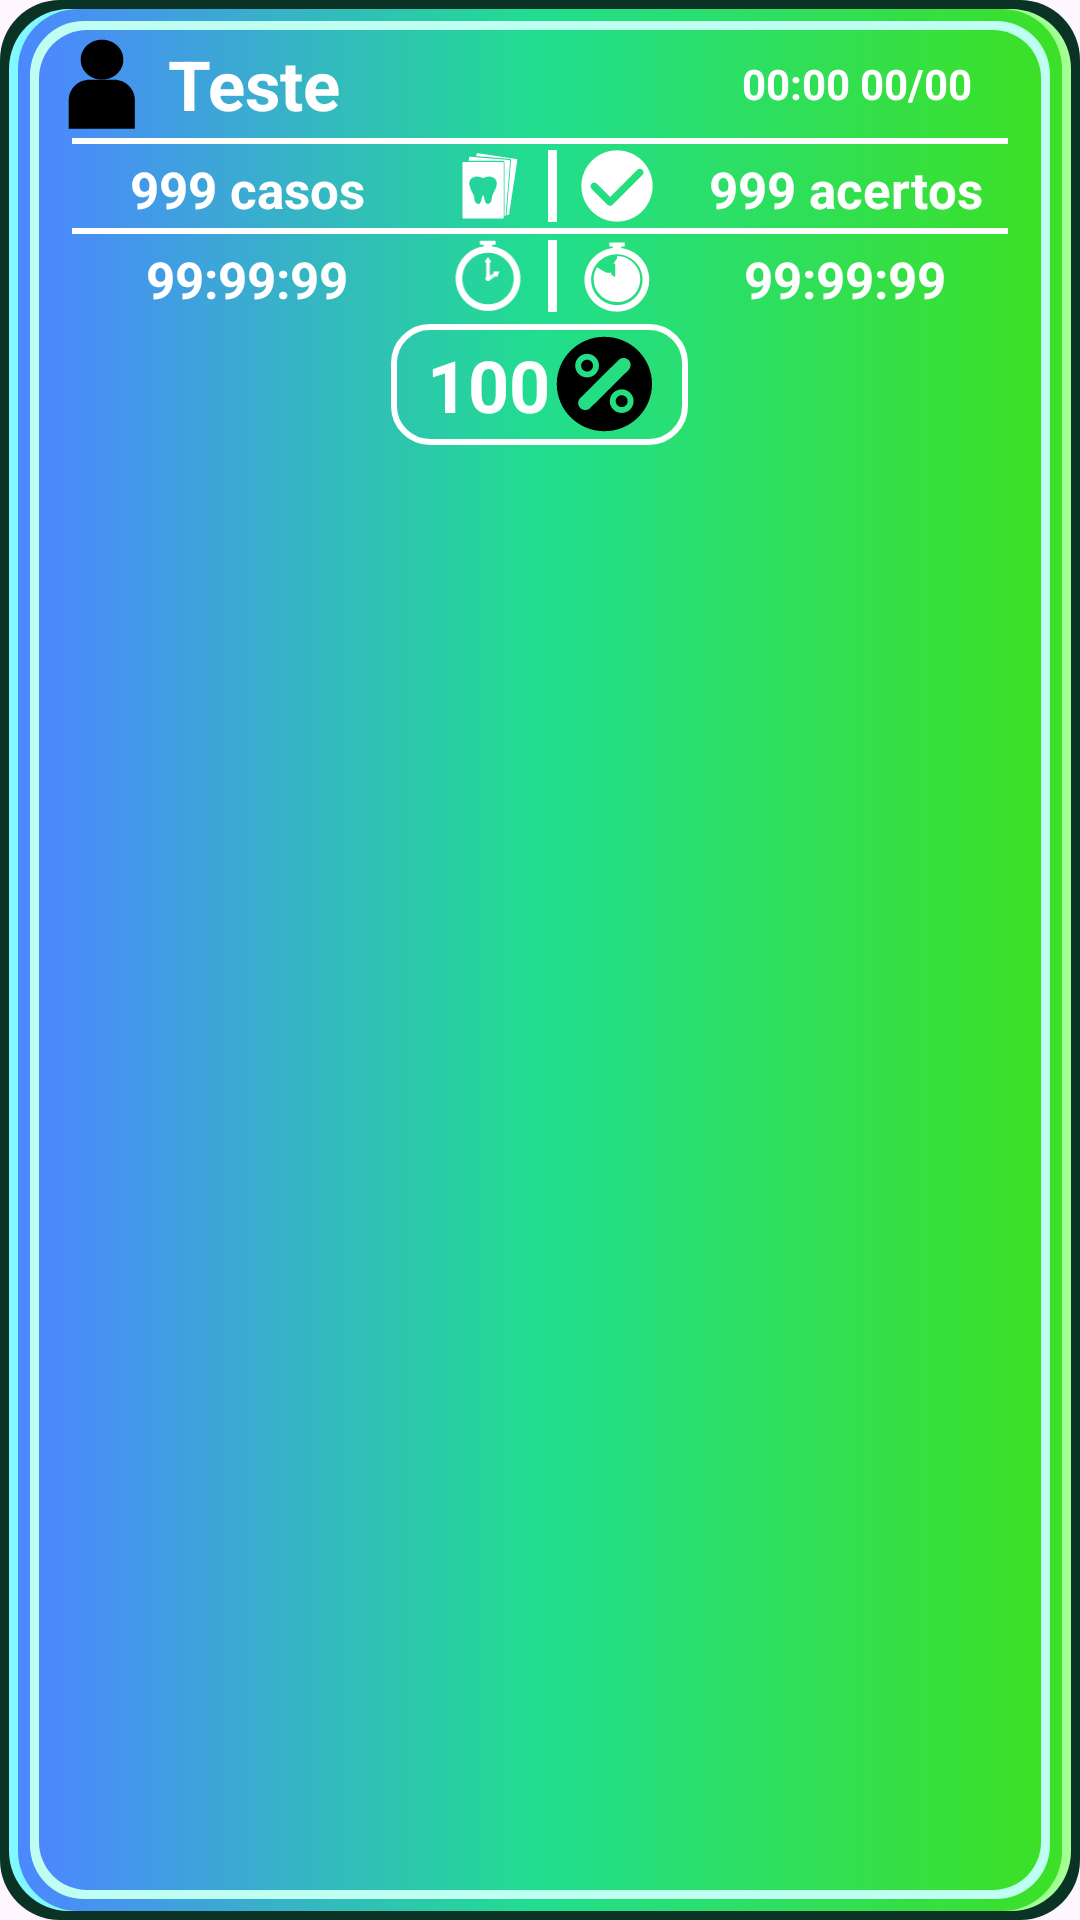

Icons on this 1080 x 1920 Android screen, each with its box as Rect(x1, y1, x2, y2):
clock: Rect(455, 240, 521, 311)
num cases: Rect(462, 153, 518, 219)
time remaining: Rect(584, 242, 650, 312)
user: Rect(68, 39, 135, 129)
